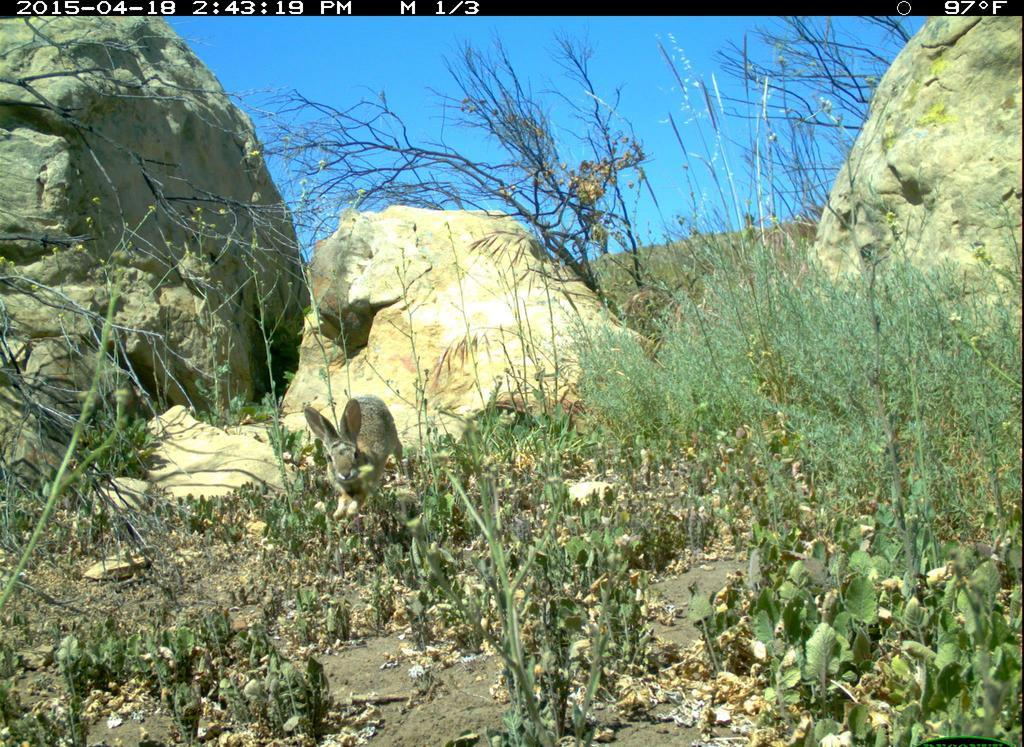rabbit: (299, 373, 410, 528)
